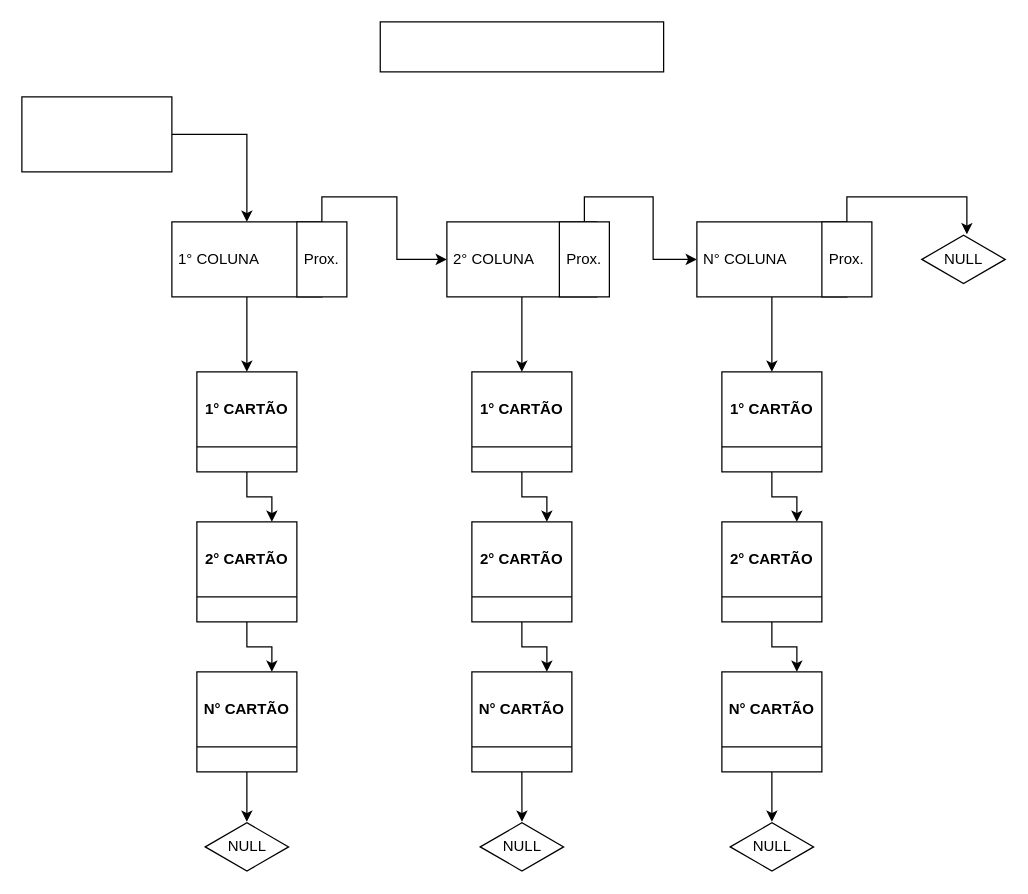
Some shapes in this 1028 by 894 pixel diagram are drawn without their labels. Each missing label, with the centre of its shape:
"LISTAS ENCADEADAS" belongs at (521,46).
"QUADRO" belongs at (96,134).
